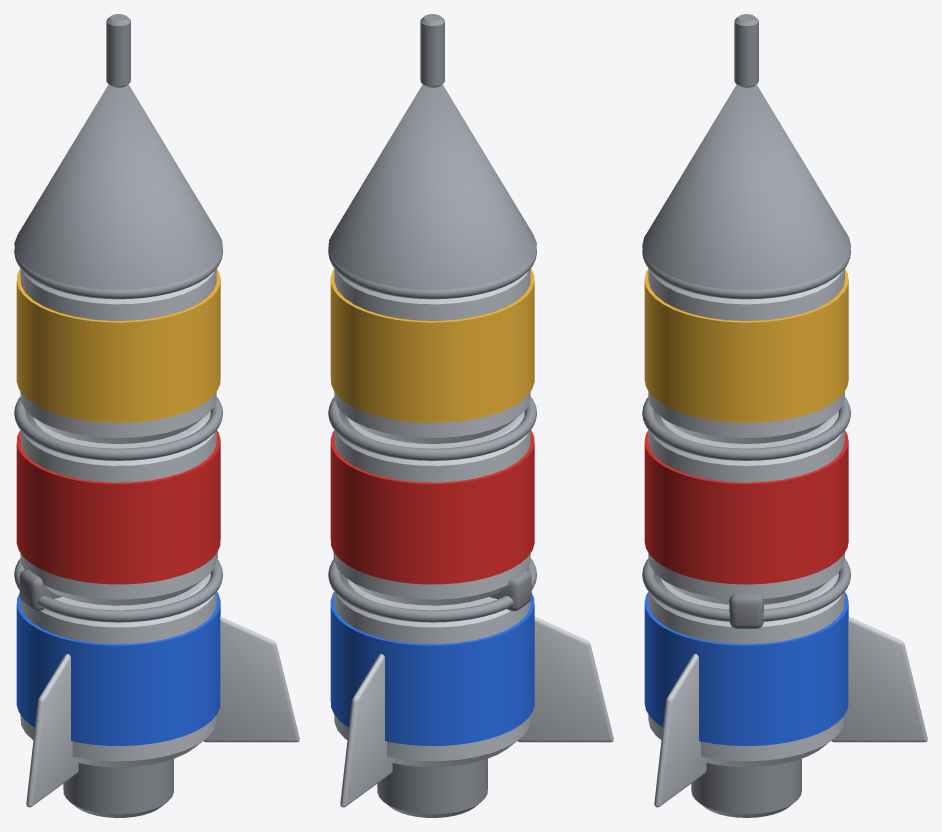
Rendered from Rocket_03_TinCans.fbx.
3 views of the same model, side by side, from view 1: azimuth 30°, elevation 25°; view 2: azimuth 150°, elevation 25°; view 3: azimuth 270°, elevation 25° (orthographic).
Visible parts, largest first — view 1: R03_Funnel, R03_Label_2, R03_Label_3, R03_Label, R03_Can_2, R03_Can, R03_Can_3, R03_LidFin_3, R03_Nozzle, R03_LidFin_2, R03_Rim_2, R03_Rim (+3 smaller); view 2: R03_Funnel, R03_Label_2, R03_Label_3, R03_Label, R03_Can_2, R03_Can, R03_Can_3, R03_LidFin_2, R03_Nozzle, R03_LidFin, R03_Rim_2, R03_Rim (+3 smaller); view 3: R03_Funnel, R03_Label_2, R03_Label_3, R03_Label, R03_Can_2, R03_Can, R03_Can_3, R03_LidFin, R03_Nozzle, R03_LidFin_3, R03_Rim_2, R03_Rim (+3 smaller).
Boxes of the visible parts, box(x1,y1,x2,y2) form: R03_Funnel: box(14, 84, 222, 289); R03_Label_2: box(16, 430, 220, 584); R03_Label_3: box(16, 268, 220, 422); R03_Label: box(16, 591, 220, 745); R03_Can_2: box(20, 411, 216, 605); R03_Can: box(20, 572, 216, 767); R03_Can_3: box(20, 268, 216, 443); R03_LidFin_3: box(203, 616, 299, 742); R03_Nozzle: box(63, 759, 173, 817); R03_LidFin_2: box(26, 654, 78, 807); R03_Rim_2: box(14, 397, 222, 460); R03_Rim: box(14, 558, 222, 622); R03_Funnel: box(328, 84, 536, 289); R03_Label_2: box(330, 430, 534, 584); R03_Label_3: box(330, 268, 534, 422); R03_Label: box(330, 592, 534, 745); R03_Can_2: box(334, 411, 530, 605); R03_Can: box(334, 573, 530, 767); R03_Can_3: box(334, 268, 530, 443); R03_LidFin_2: box(517, 616, 613, 742); R03_Nozzle: box(377, 758, 487, 817); R03_LidFin: box(340, 654, 392, 807); R03_Rim_2: box(328, 397, 536, 460); R03_Rim: box(328, 558, 536, 622); R03_Funnel: box(642, 84, 850, 290); R03_Label_2: box(644, 430, 848, 584); R03_Label_3: box(644, 269, 848, 422); R03_Label: box(644, 592, 848, 745); R03_Can_2: box(648, 411, 844, 604); R03_Can: box(648, 573, 844, 767); R03_Can_3: box(648, 268, 844, 443); R03_LidFin: box(831, 616, 927, 742); R03_Nozzle: box(691, 758, 801, 817); R03_LidFin_3: box(654, 653, 706, 807); R03_Rim_2: box(642, 397, 850, 460); R03_Rim: box(642, 559, 850, 621).
Bounding box in the file's own units: 2.56 × 7 × 2.32.
